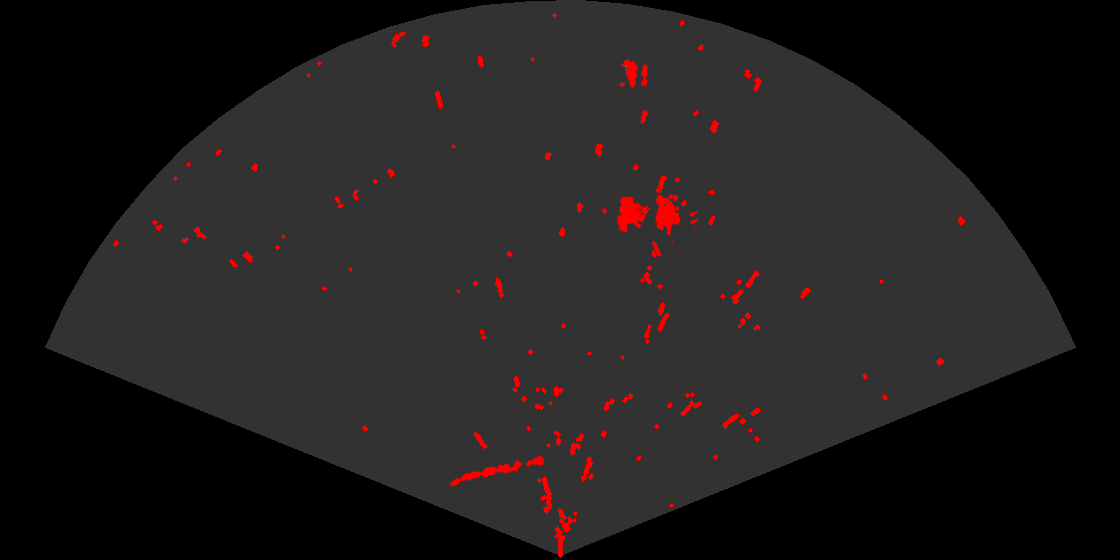ball: (618, 58, 649, 90)
cage: (615, 186, 698, 256)
chain: (448, 453, 547, 488)
